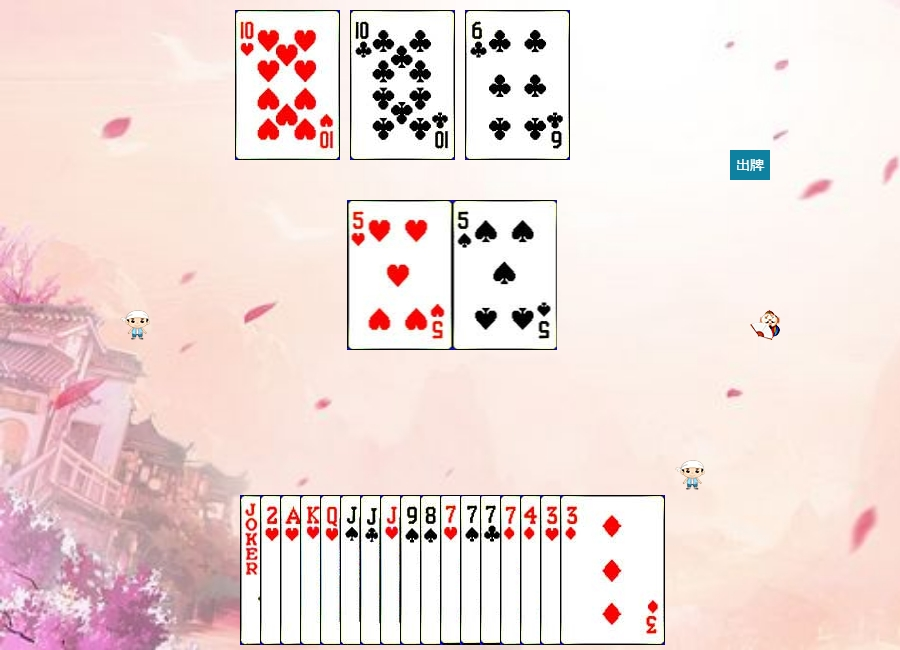10~2: (350, 10, 455, 160)
10~3: (235, 10, 340, 160)
11~2: (360, 495, 465, 645)
11~3: (380, 495, 485, 645)
11~4: (340, 495, 445, 645)
12~3: (320, 495, 425, 645)
13~3: (300, 495, 405, 645)
14~3: (280, 495, 385, 645)
15~3: (260, 495, 365, 645)
18~4: (240, 495, 345, 645)
3~1: (560, 495, 665, 645)
3~3: (540, 495, 645, 645)
4~1: (520, 495, 625, 645)
5~3: (348, 200, 453, 350)
5~4: (453, 200, 558, 350)
6~2: (465, 10, 570, 160)
7~1: (500, 495, 605, 645)
7~2: (480, 495, 585, 645)
7~3: (440, 495, 545, 645)
7~4: (460, 495, 565, 645)
8~4: (420, 495, 525, 645)
9~4: (400, 495, 505, 645)
